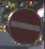No entry: (6, 5, 40, 43)
